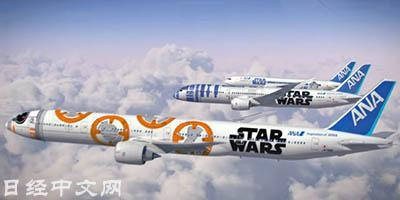airplane: (3, 80, 399, 165), (171, 63, 378, 111)
